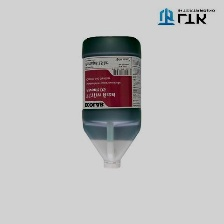cleaning_solution: (79, 34, 142, 170)
